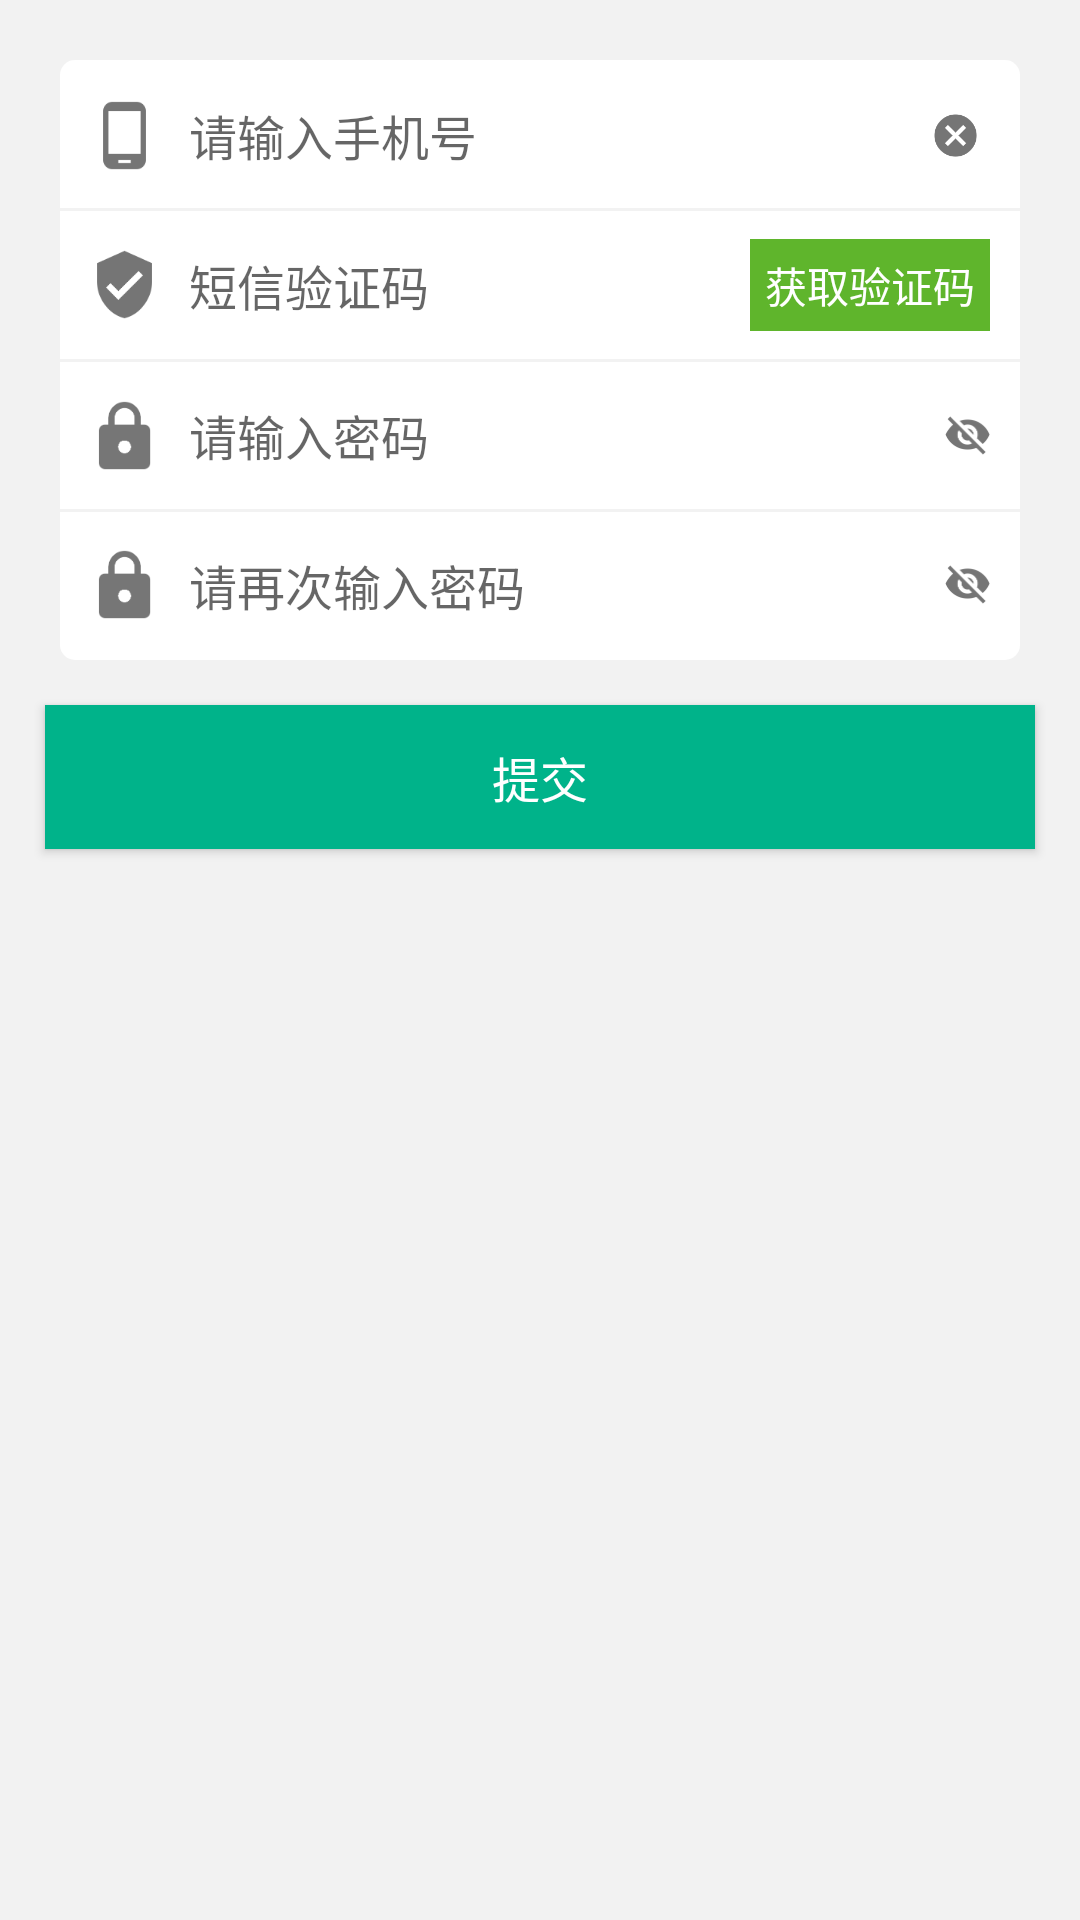

Screen size 1080w x 1920h. Icon name, then its center in pixels as (x,y):
cancel: (955,135)
checkable visibility off on: (967,435), (967,584)
phone android: (124,135)
verified user: (124,284)
